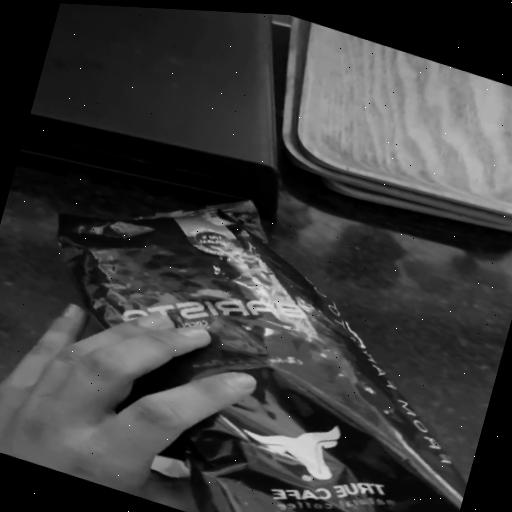cafe_hat: (58, 202, 466, 512)
